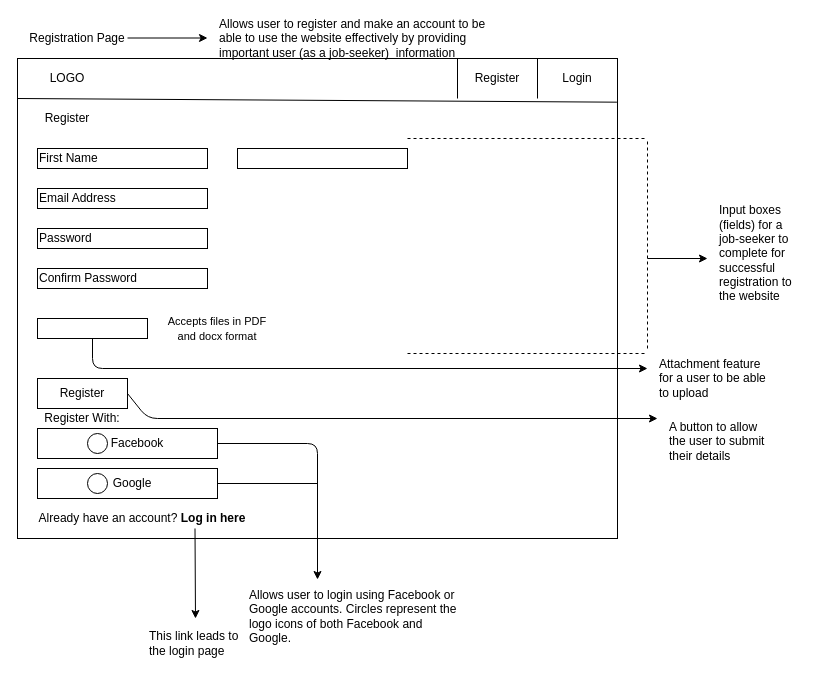
Some shapes in this 815 by 676 pixel diagram are drawn without their labels. Here are the shapes that lost their labels. From the top down, the centre of each, then its label:
At pixel 322 158: "Last Name".
At pixel 92 328: "Upload Your CV".
